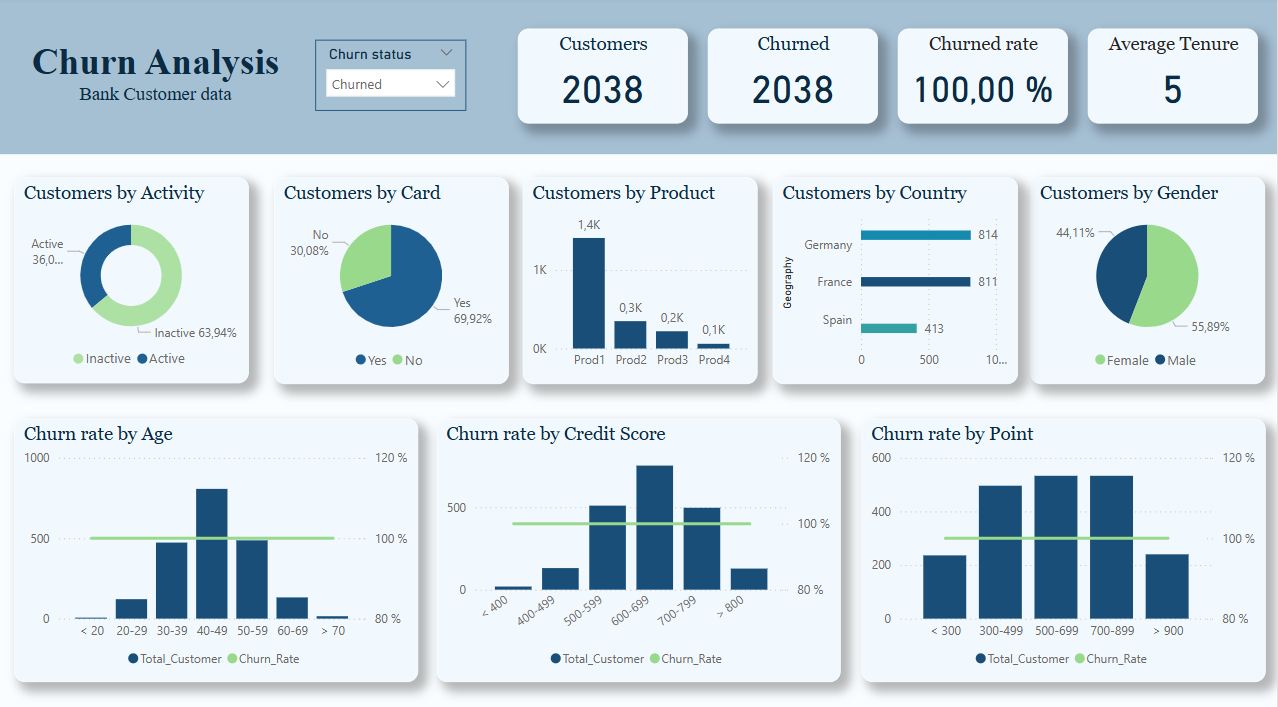

This screenshot's page, from the dashboard's own definition file:
{"tool":"powerbi","page":{"name":"Page 1","canvas":[1280,720],"ordinal":0},"visuals":[{"type":"textbox","box":[0,0,1279.8,158.5],"z":0},{"type":"pieChart","title":"Customers by Gender","fields":{"Y":["ChurnRecords.Total_Customer"],"Category":["ChurnRecords.Gender"]},"box":[1033.3,182,235.4,206.9],"z":1000},{"type":"card","title":"Customers","fields":{"Values":["ChurnRecords.Total_Customer"]},"box":[520,32.5,170,95.1],"z":2000},{"type":"textbox","box":[15.5,21.4,283.3,94],"z":3000},{"type":"pieChart","title":"Customers by Card","fields":{"Category":["ChurnRecords.HasCrCard"],"Y":["ChurnRecords.Total_Customer"]},"box":[275,182,235.4,206.9],"z":4000},{"type":"clusteredColumnChart","title":"Customers by Product","fields":{"Y":["ChurnRecords.Total_Customer"],"Category":["ChurnRecords.NumOfProducts"]},"box":[525,182,235.4,206.9],"z":5000},{"type":"slicer","title":"Customers by Gender","fields":{"Values":["ChurnRecords.Exited"]},"box":[316.7,44,151.2,71.4],"z":6000},{"type":"clusteredBarChart","title":"Customers by Country","fields":{"Y":["ChurnRecords.Total_Customer"],"Category":["ChurnRecords.Geography"],"Series":["ChurnRecords.Geography"]},"box":[774.6,182,245.7,206.9],"z":7000},{"type":"donutChart","title":"Customers by Activity","fields":{"Y":["ChurnRecords.Total_Customer"],"Category":["ChurnRecords.IsActiveMember"]},"box":[15.5,182,235.4,206],"z":8000},{"type":"lineStackedColumnComboChart","title":"Churn rate by Age","fields":{"Y2":["ChurnRecords.Churn_Rate"],"Category":["Age Group.Age Group"],"Y":["ChurnRecords.Total_Customer"]},"box":[15.5,422.9,404.8,263.8],"z":9000},{"type":"lineStackedColumnComboChart","title":"Churn rate by Credit Score","fields":{"Y2":["ChurnRecords.Churn_Rate"],"Category":["Credit Group.Credit Group"],"Y":["ChurnRecords.Total_Customer"]},"box":[438.4,422.9,404.8,263.8],"z":10000},{"type":"lineStackedColumnComboChart","title":"Churn rate by Point","fields":{"Y2":["ChurnRecords.Churn_Rate"],"Y":["ChurnRecords.Total_Customer"],"Category":["Point Group.Point Group"]},"box":[863.9,422.9,404.8,263.8],"z":11000},{"type":"card","title":"Churned","fields":{"Values":["ChurnRecords.Customers_Churned"]},"box":[710,32.5,170.2,95.1],"z":12000},{"type":"card","title":"Churned rate","fields":{"Values":["ChurnRecords.Churn_Rate"]},"box":[900,32.5,170,95.1],"z":13000},{"type":"card","title":"Average Tenure","fields":{"Values":["ChurnRecords.Avg_Tenure"]},"box":[1090,32.5,170.2,95.1],"z":14000}]}

Visuals, with their boxes in screenshot pixels (x1, y1, x2, y2), scaled from the page's 1280x720 canvas onto the 1278x707 screenshot:
textbox: rect(0, 0, 1277, 156)
"Customers by Gender" pieChart: rect(1032, 179, 1267, 382)
"Customers" card: rect(519, 32, 689, 125)
textbox: rect(15, 21, 298, 113)
"Customers by Card" pieChart: rect(275, 179, 510, 382)
"Customers by Product" clusteredColumnChart: rect(524, 179, 759, 382)
"Customers by Gender" slicer: rect(316, 43, 467, 113)
"Customers by Country" clusteredBarChart: rect(773, 179, 1019, 382)
"Customers by Activity" donutChart: rect(15, 179, 251, 381)
"Churn rate by Age" lineStackedColumnComboChart: rect(15, 415, 420, 674)
"Churn rate by Credit Score" lineStackedColumnComboChart: rect(438, 415, 842, 674)
"Churn rate by Point" lineStackedColumnComboChart: rect(863, 415, 1267, 674)
"Churned" card: rect(709, 32, 879, 125)
"Churned rate" card: rect(899, 32, 1068, 125)
"Average Tenure" card: rect(1088, 32, 1258, 125)
